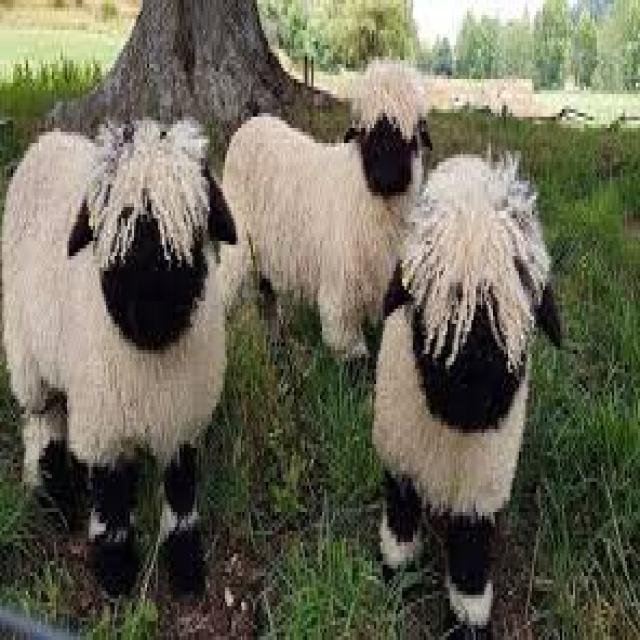Boar: (0, 113, 238, 595), (370, 143, 562, 633), (218, 53, 432, 365)
